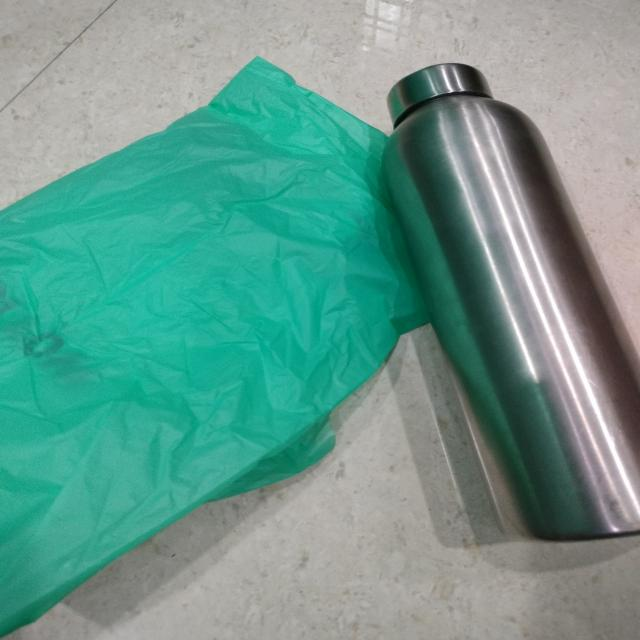metal: (384, 67, 640, 546)
plastic: (0, 78, 369, 640)
